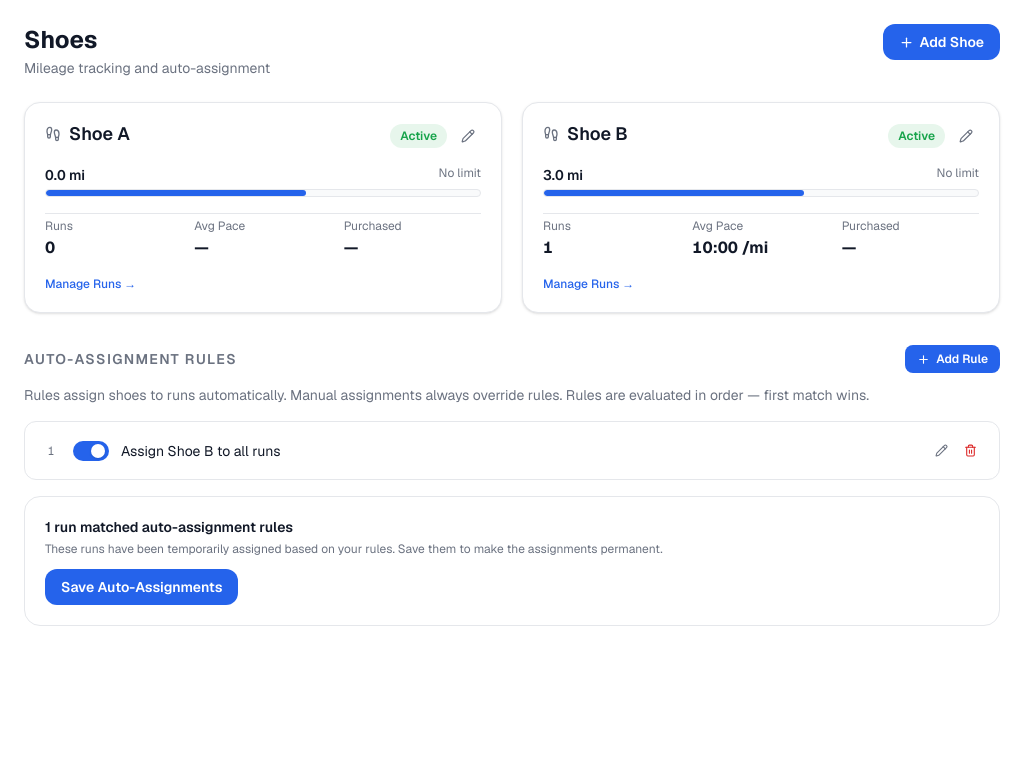
Test: persisted shoe assignment publication › Shoes saves auto-assignments into raw canonical state before rule changes
Click the button "Save Auto-Assignments" at coordinates (142, 587), box [45,569,238,605]
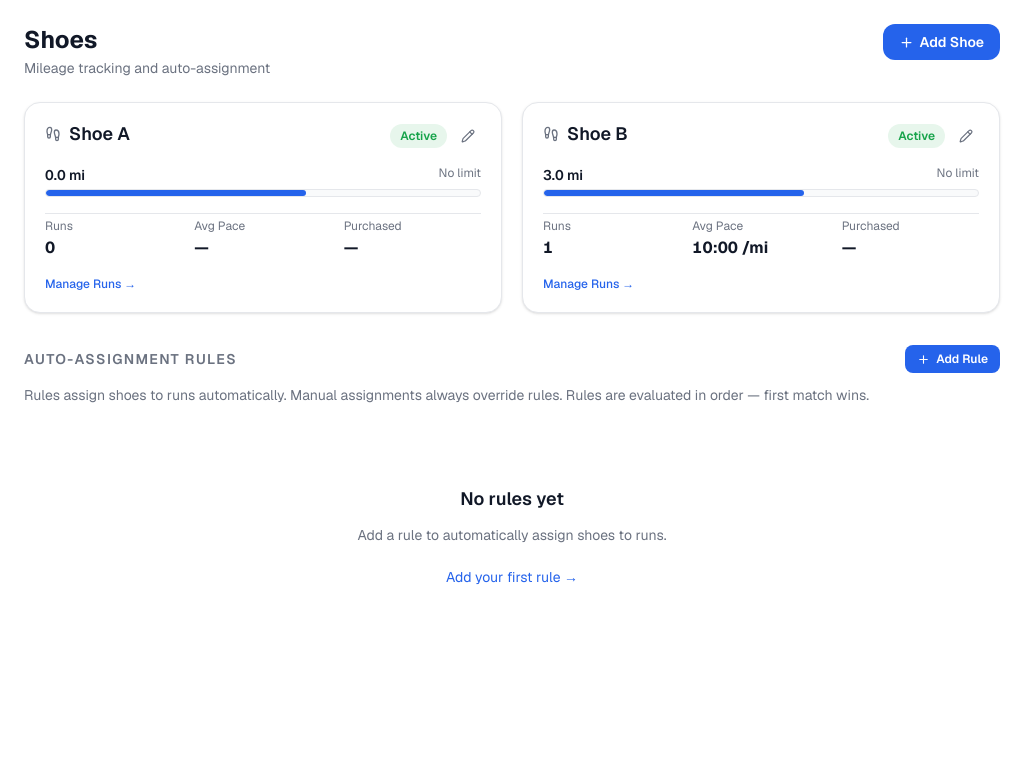
Expected: the element that starts with "Shoe B" shows "3.0", [543,166,564,184]
Result: the text "Save Auto-Assignments" is gone
